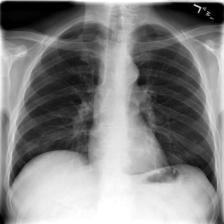normal: (7, 17, 220, 196)
